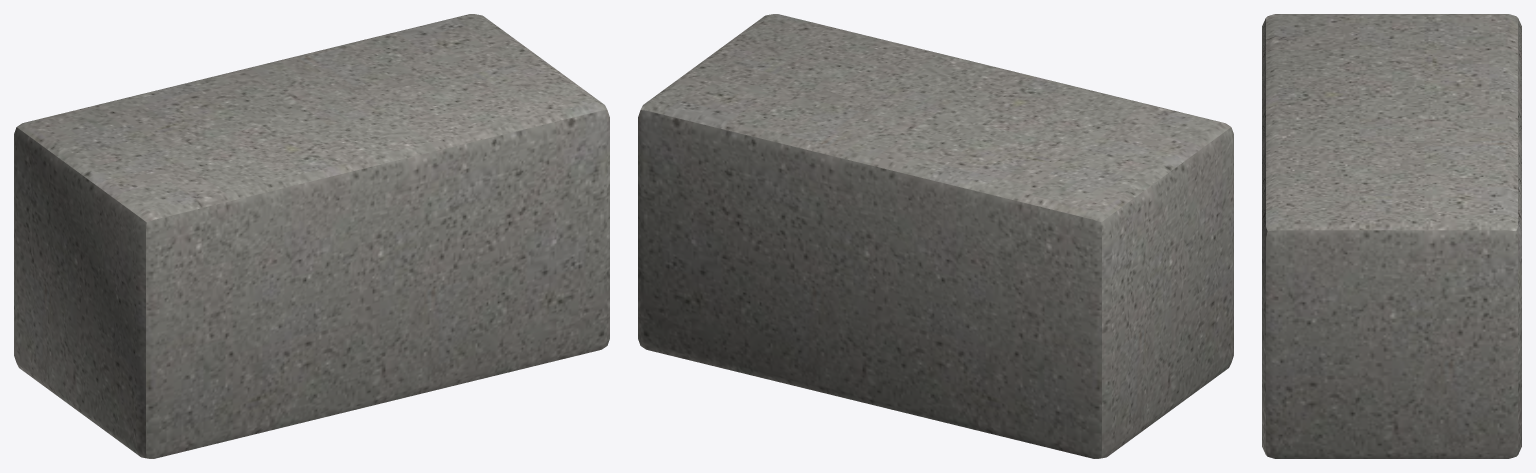
File: PAV-BLQ-003.glb
3 renders of one model, left to right at view 1: azimuth 30°, elevation 25°; view 2: azimuth 150°, elevation 25°; view 3: azimuth 270°, elevation 25°, orthographic. The views are drawn at different scales.
Visible parts, largest first — view 1: PAV-BLQ-003_peca; view 2: PAV-BLQ-003_peca; view 3: PAV-BLQ-003_peca.
Part boxes in pixels (x1,y1,x2,y2): PAV-BLQ-003_peca: (14, 14, 609, 458); PAV-BLQ-003_peca: (638, 14, 1233, 458); PAV-BLQ-003_peca: (1262, 14, 1521, 458).
Size of the model in its own units: 0.2 by 0.1 by 0.1.
1 material, 1 textured.
